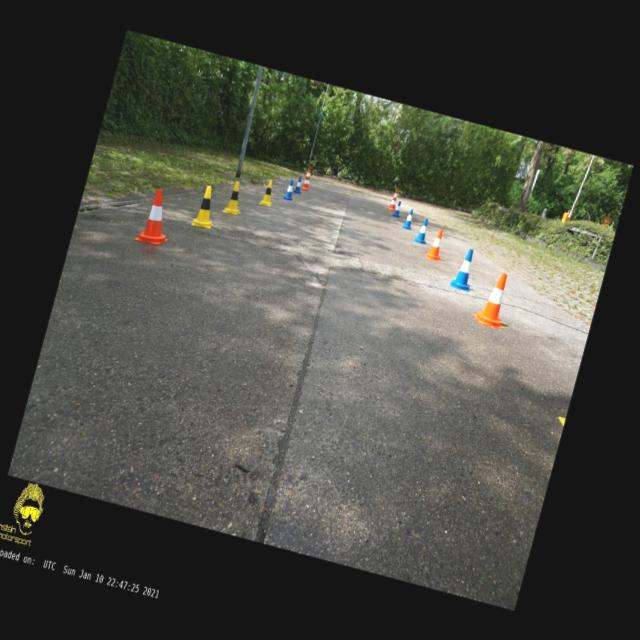blue_cone: (449, 246, 479, 292), (413, 216, 432, 244), (282, 178, 296, 200), (402, 208, 416, 230), (292, 176, 304, 194), (392, 200, 404, 218)
large_orange_cone: (385, 185, 401, 211), (300, 166, 314, 191)
orange_cone: (133, 185, 179, 248), (472, 268, 517, 328), (424, 226, 447, 262)
yellow_cone: (190, 183, 222, 230), (222, 180, 248, 216), (258, 178, 278, 207)
